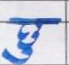u_matra: (3, 45, 37, 63)
